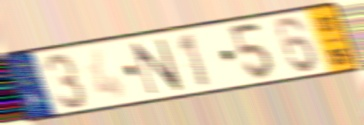1: (176, 31, 212, 91)
3: (43, 51, 88, 112)
4: (92, 45, 128, 102)
5: (227, 19, 275, 83)
6: (275, 14, 320, 76)
N: (129, 36, 186, 97)
